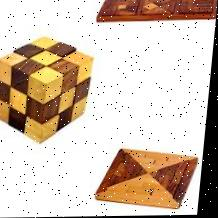cube: (0, 39, 95, 143)
